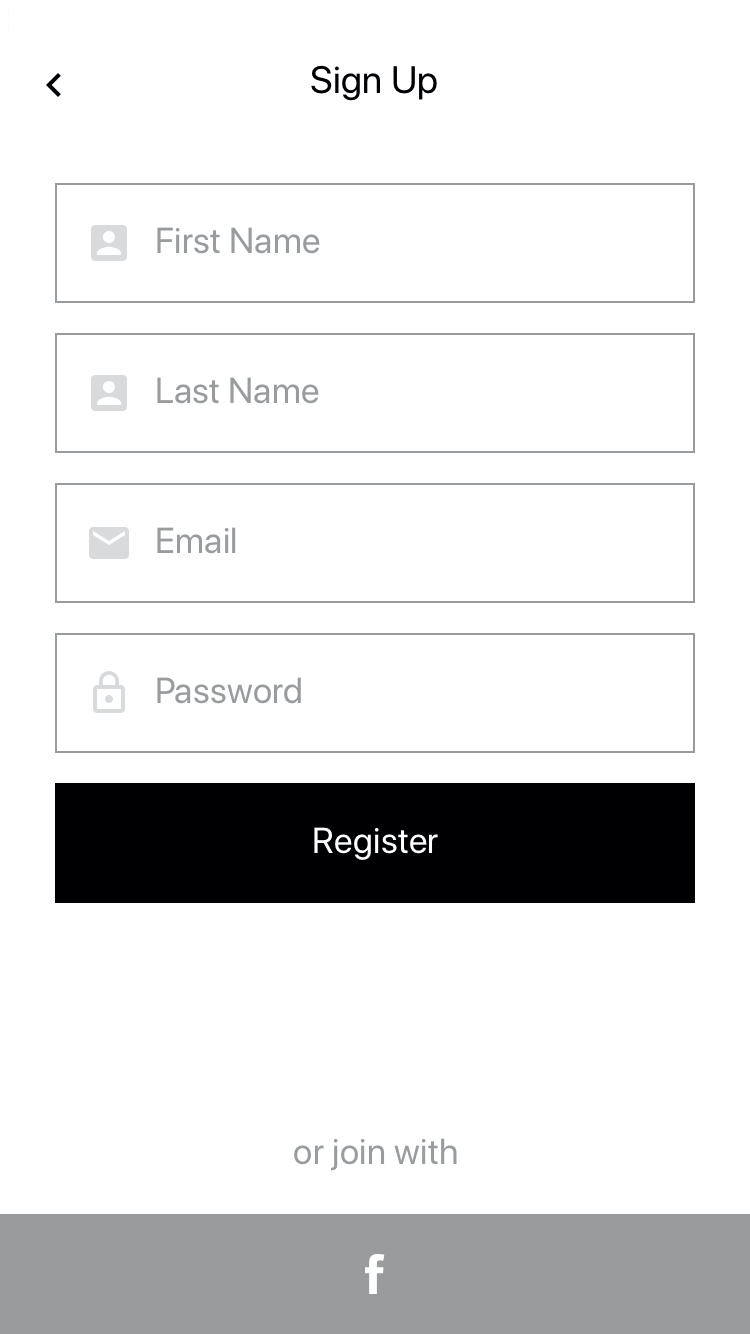EditText: (55, 483, 696, 604), (55, 633, 696, 754), (56, 184, 696, 304), (56, 334, 696, 454)
Icon: (93, 671, 126, 714), (91, 375, 129, 412), (91, 225, 128, 262), (90, 527, 131, 560), (46, 74, 62, 98)
Text: (293, 1137, 458, 1171), (311, 65, 438, 102), (157, 228, 321, 256), (157, 377, 320, 405), (157, 676, 302, 704), (157, 527, 236, 555)
TextButton: (1, 1214, 750, 1334), (56, 783, 696, 904)
